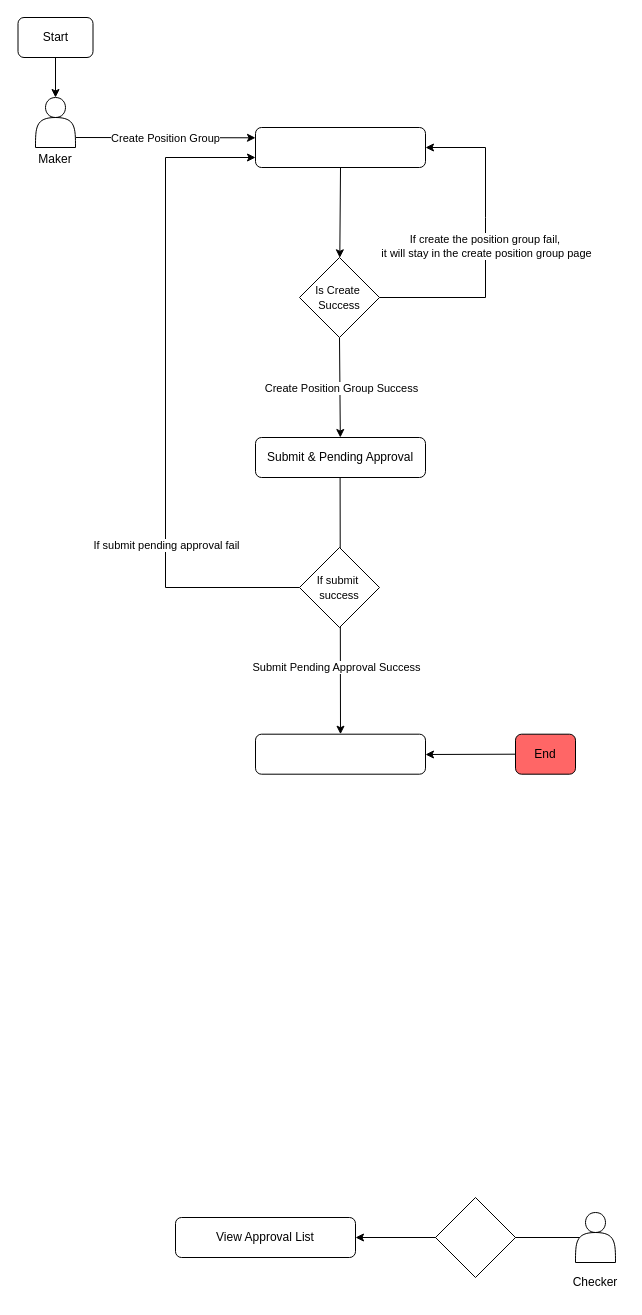
Some shapes in this 642 by 1315 pixel diagram are drawn without their labels. Each missing label, with the centre of its shape:
"Check Approval list" belongs at point (475, 1237).
"View Create Position Group Form" belongs at point (340, 147).
"View Position Group List" belongs at point (340, 753).
